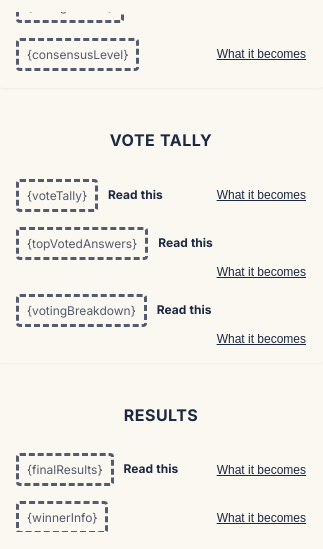
Test case: the picker says what a variable is for, as well as what it becomes › the catalogue description and example are shown, and labelled as its words
(page scrolled)
Click the 4th button "What it becomes". click: coordinates (261, 272)
box: [217,264,306,278]
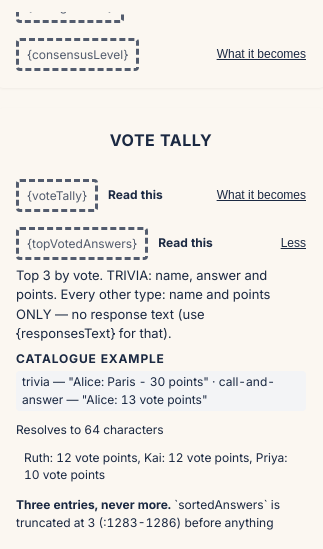
Now the text with test id "pvi-desc-topVotedAnswers" shows "Top 3", box [16,266,270,341]
Now the text "Catalogue example" is shown, box [16,350,165,366]
